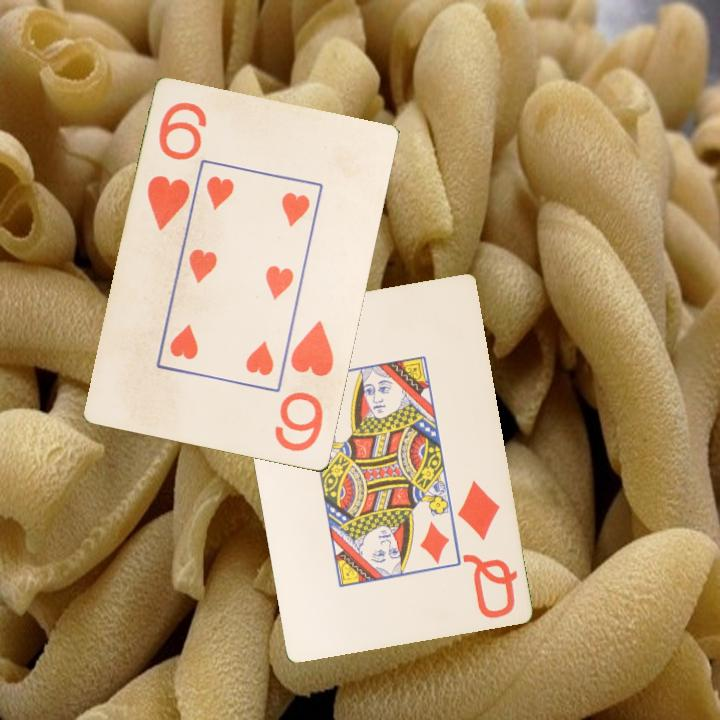6h: (271, 317, 337, 455), (143, 99, 210, 234)
Qd: (453, 476, 520, 623)
